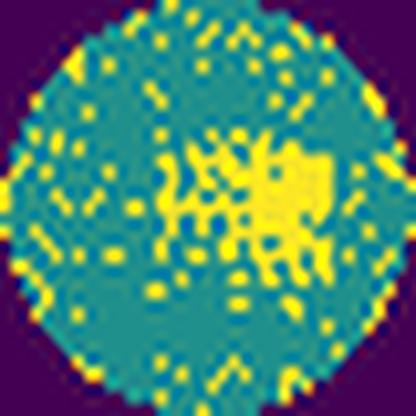Loc: (156, 130, 336, 289)
